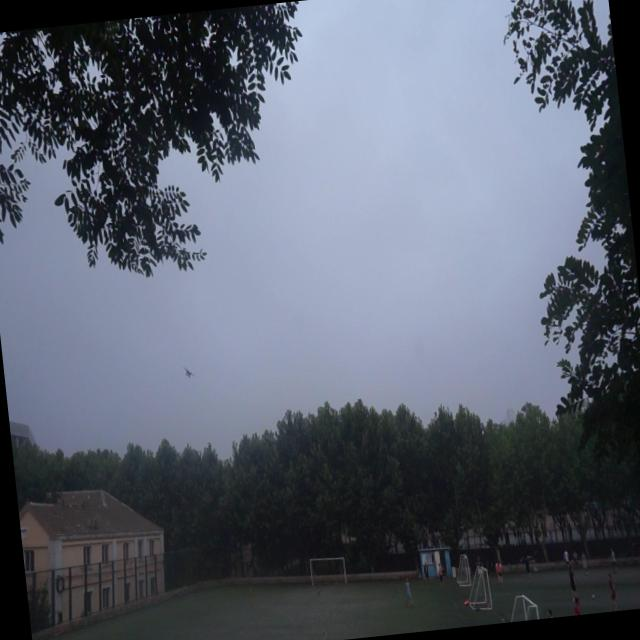drone: (179, 363, 197, 382)
